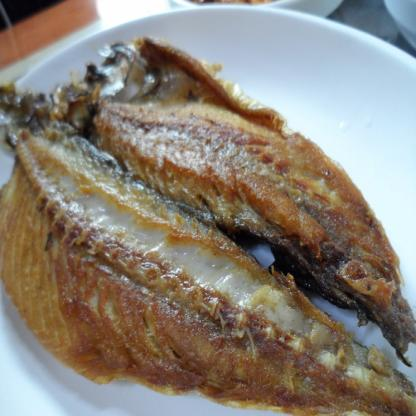Peixe: (0, 33, 404, 416)
